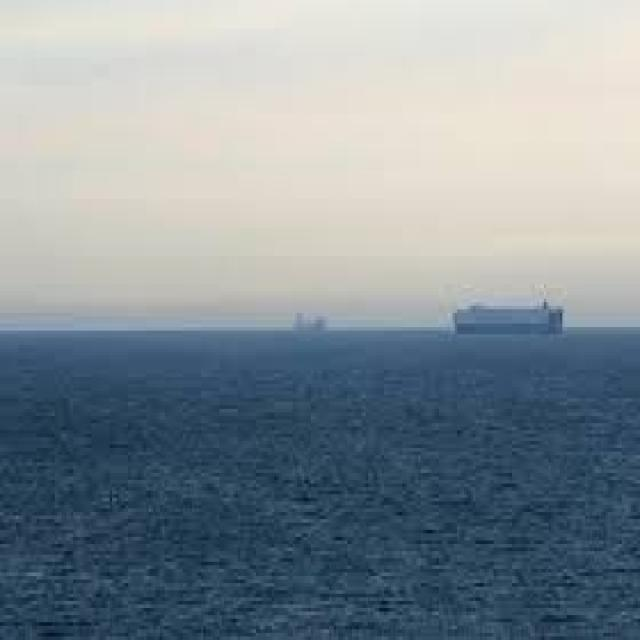cargoship: (432, 286, 574, 350)
